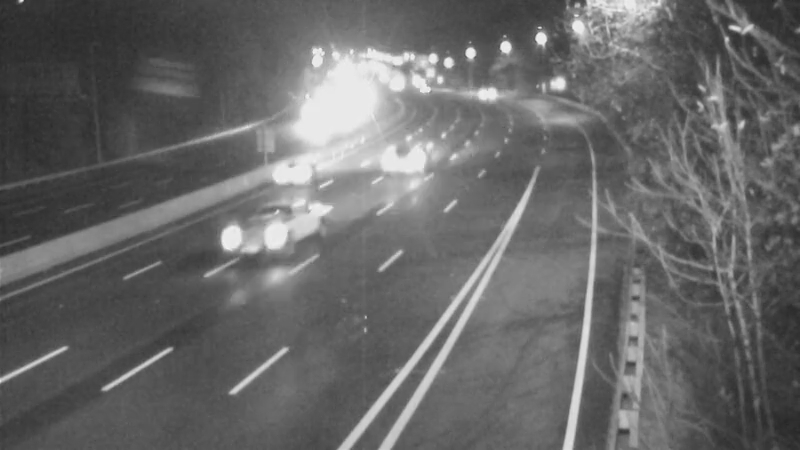vehicle: (367, 114, 447, 194), (251, 129, 331, 209), (224, 189, 304, 269), (391, 55, 441, 105), (371, 60, 421, 110), (406, 63, 456, 113), (465, 67, 515, 117), (286, 96, 336, 146)
